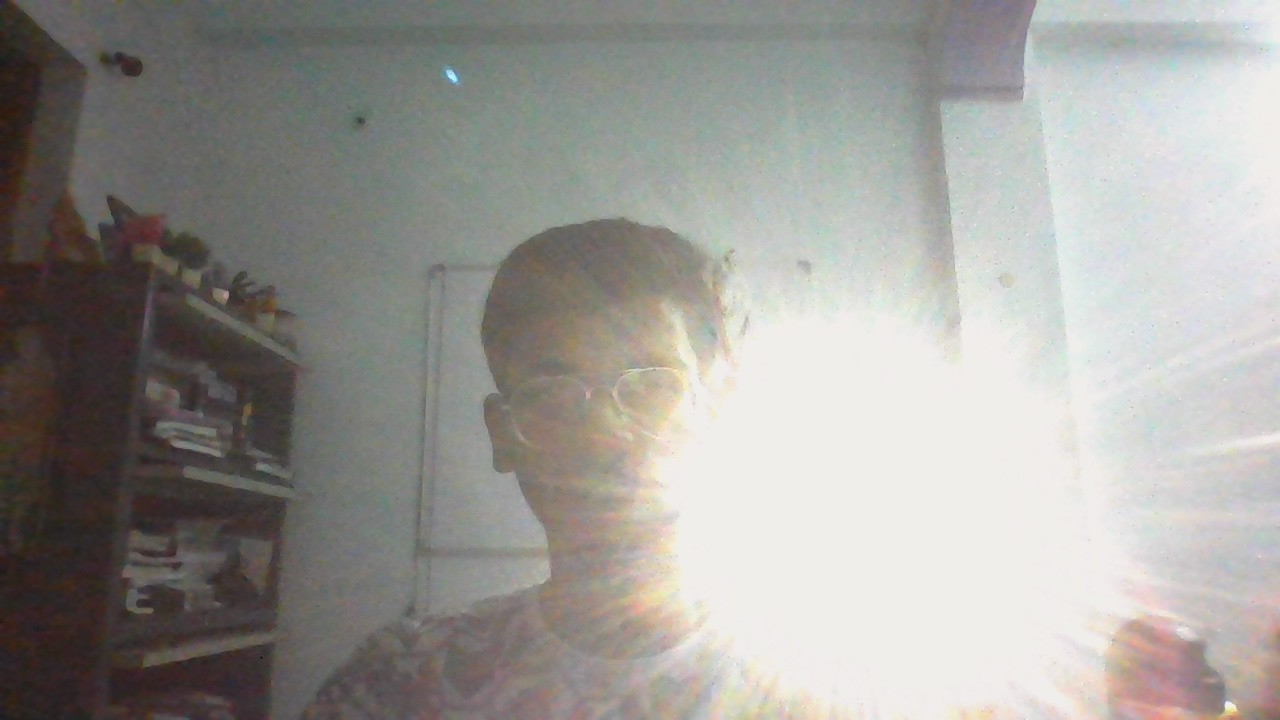Glare: (660, 322, 1120, 715)
